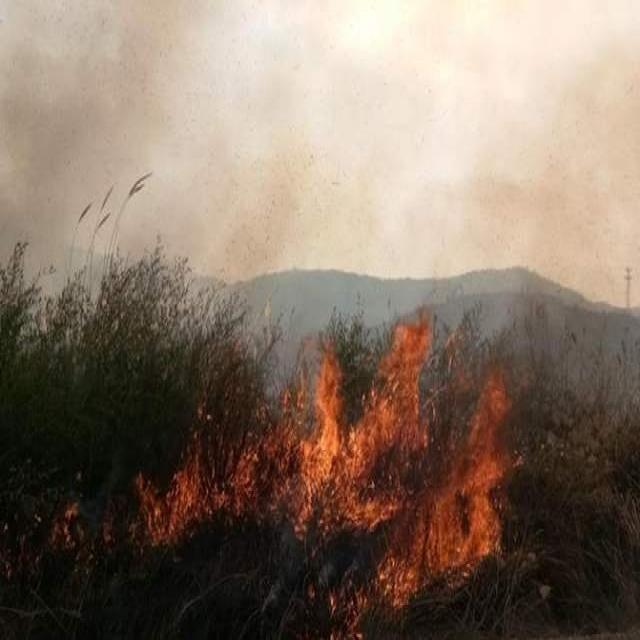fire: (137, 320, 505, 588)
